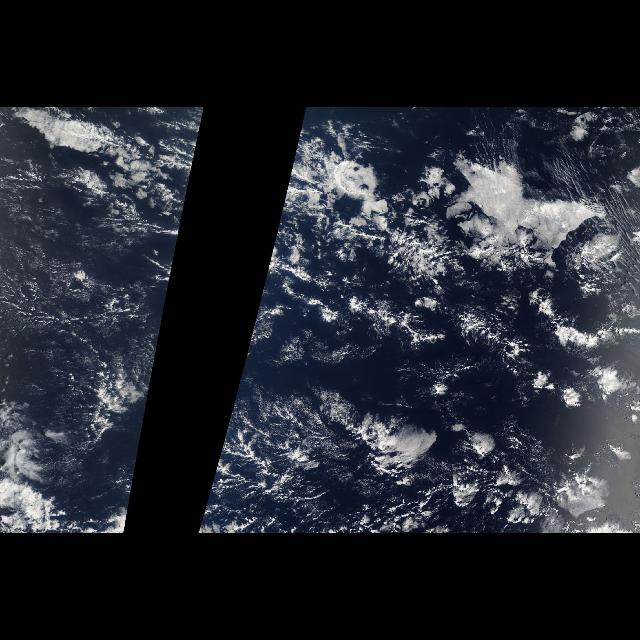Flower: (223, 117, 632, 440), (100, 117, 204, 440)
Sugar: (0, 171, 162, 373)
